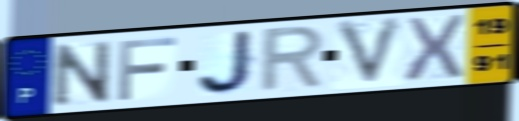F: (116, 35, 180, 103)
J: (194, 28, 258, 97)
N: (51, 38, 114, 109)
R: (257, 22, 329, 96)
V: (332, 14, 408, 90)
X: (402, 13, 467, 86)
